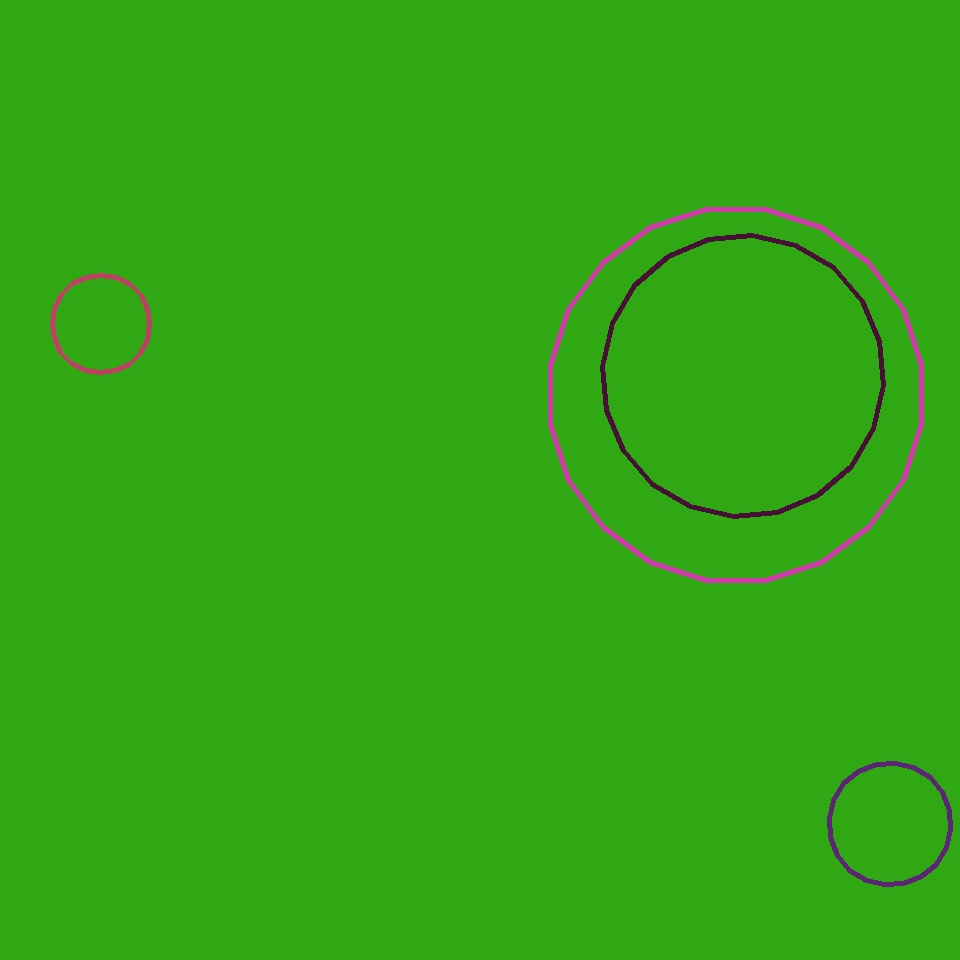triangle: (550, 209, 922, 580), (602, 236, 884, 516), (830, 764, 950, 884), (52, 276, 150, 373)
